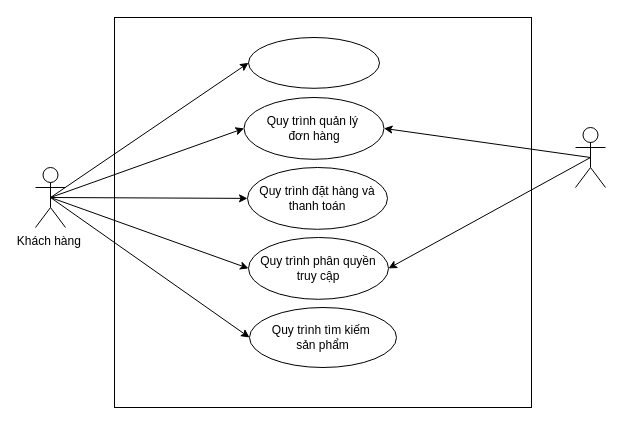
The diagram is 642 pixels wide and 425 high, and some of its shapes have lost their labels. The shapes that lost their labels are listed below. From the top down, each one's centre as x and y in pixels, then its label:
At point 314,62: "Quy trình giỏ hàng".
At point 590,157: "Quản trị viên".
